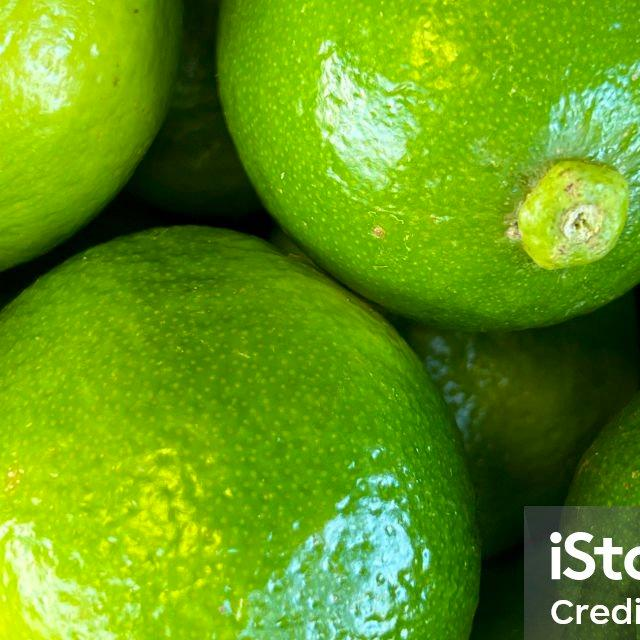lime: (0, 232, 481, 640), (195, 0, 640, 347)
